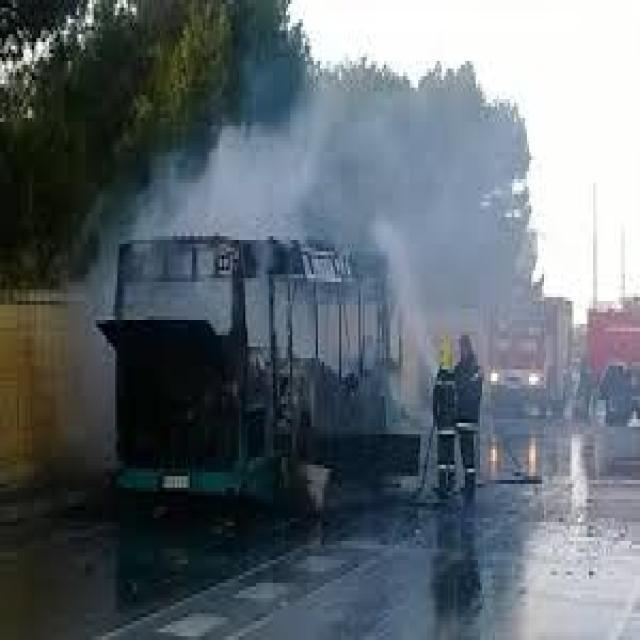Smoke: (84, 64, 534, 334)
